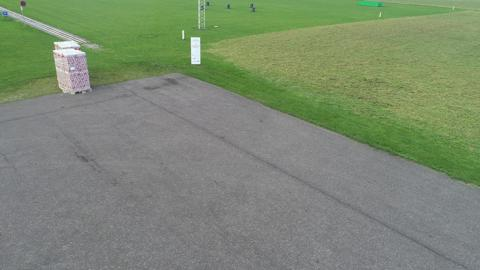RockwoolPallet: (53, 40, 81, 56)
